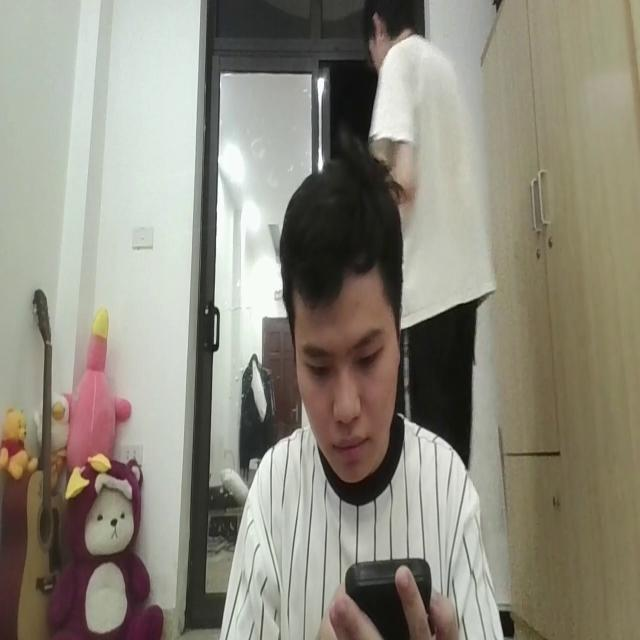extra_person: (365, 0, 494, 446)
student: (231, 148, 499, 640)
